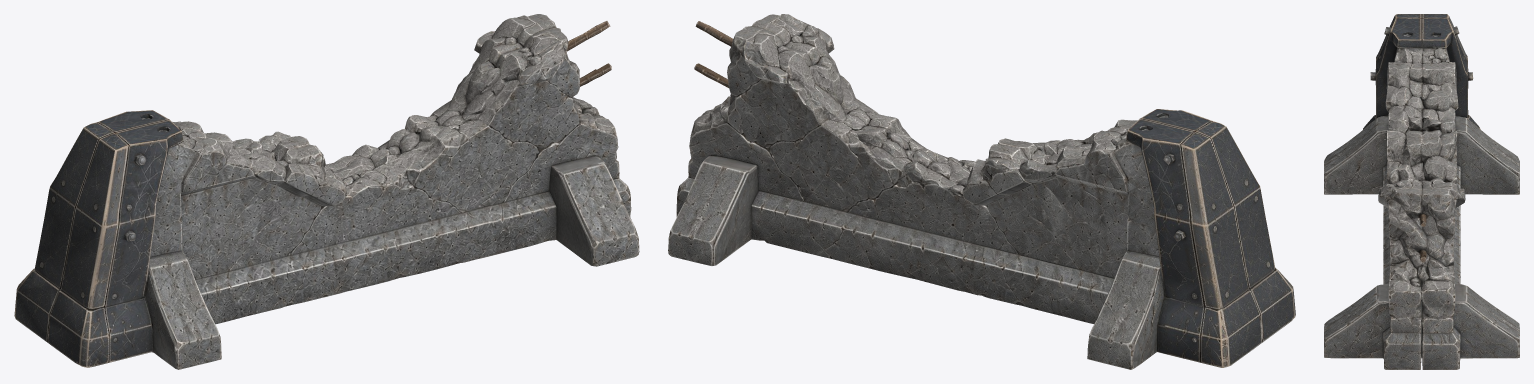
File: shared_rubble_kit__wall_stub_low.glb
3 views of the same model, side by side, from view 1: azimuth 30°, elevation 25°; view 2: azimuth 150°, elevation 25°; view 3: azimuth 270°, elevation 25° (orthographic). The views are drawn at different scales.
Visible parts, largest first — view 1: mesh_node; view 2: mesh_node; view 3: mesh_node.
Part boxes in pixels (left/top/right/bottom): mesh_node: left=14, top=14, right=639, bottom=369; mesh_node: left=668, top=14, right=1295, bottom=369; mesh_node: left=1324, top=14, right=1519, bottom=369.
Bounding box in the file's own units: 7.32 × 2.41 × 2.7.
1 material, 1 textured.
